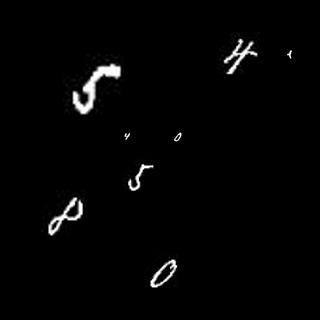eight: (49, 202, 91, 234)
five: (72, 65, 123, 117), (128, 163, 156, 191)
four: (225, 37, 256, 76), (120, 130, 132, 142)
zero: (149, 260, 180, 289), (171, 129, 184, 140)
